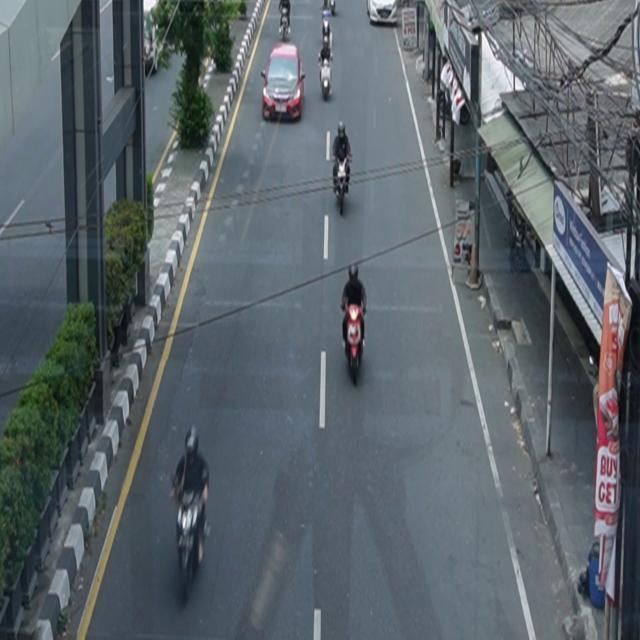car: (261, 43, 306, 123), (367, 1, 399, 27)
